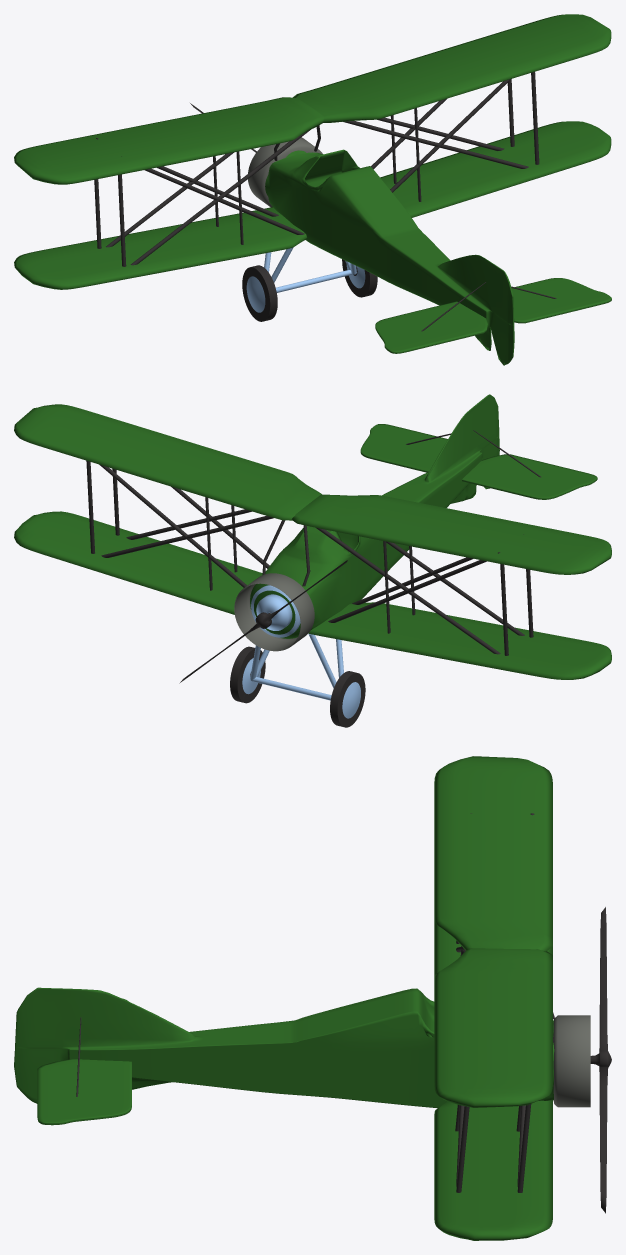
File: самолет.fbx
The picture shows the model from 3 angles, top to bottom: view 1: azimuth 30°, elevation 25°; view 2: azimuth 150°, elevation 25°; view 3: azimuth 270°, elevation 25°; orthographic projection. The views are drawn at different scales.
Visible parts, largest first — view 1: ww 1 for ele; view 2: ww 1 for ele, ww 1 for ele.001; view 3: ww 1 for ele, ww 1 for ele.001.
Boxes of the visible parts, left/top/right/bottom form: ww 1 for ele: left=14, top=14, right=611, bottom=365; ww 1 for ele: left=14, top=394, right=611, bottom=727; ww 1 for ele.001: left=179, top=560, right=347, bottom=683; ww 1 for ele: left=14, top=756, right=590, bottom=1240; ww 1 for ele.001: left=590, top=907, right=611, bottom=1213.
Bounding box in the file's own units: 8524 × 3127 × 6123.
